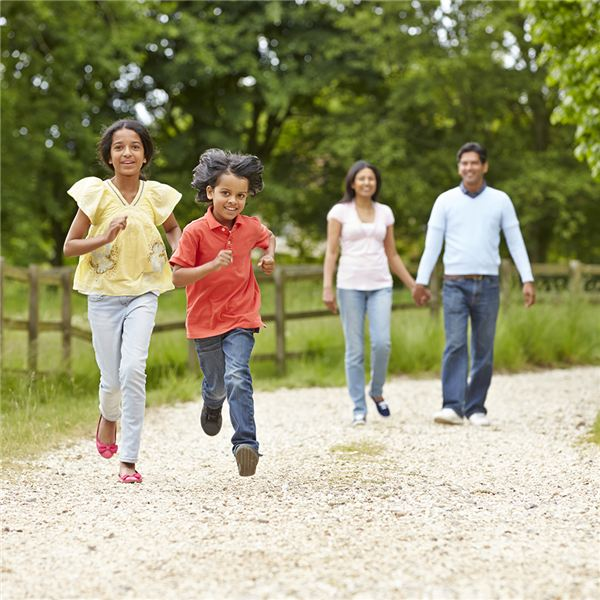Person: (55, 108, 185, 496), (166, 132, 293, 515), (412, 137, 541, 445), (315, 139, 438, 434)
